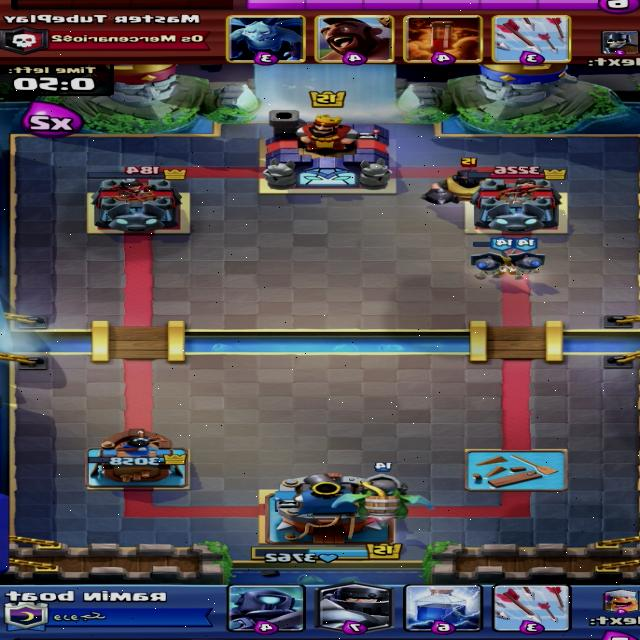Enemy-MegaKnight: (418, 158, 511, 205)
Player-Guard: (468, 235, 518, 280), (501, 236, 549, 280)
Player-InfernoDragon: (330, 462, 435, 529)
